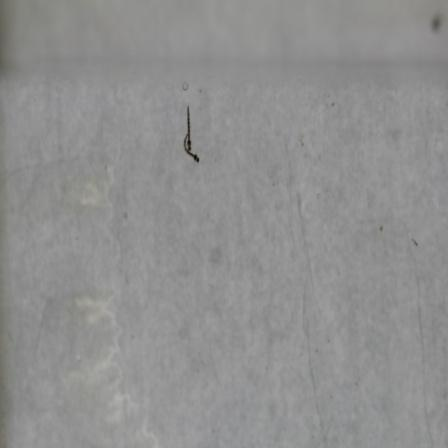Jentik-Nyamuk: (181, 104, 203, 165)
